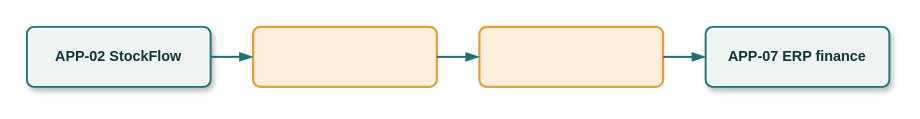
Some shapes in this 920 by 119 pixel diagram are drawn without their labels. Here are the shapes that lost their labels. From the top down, the centre of each, then its label:
At point 344,56: "Export mensuel des colis en instance".
At point 571,56: "Ressaisie par la comptabilité".
